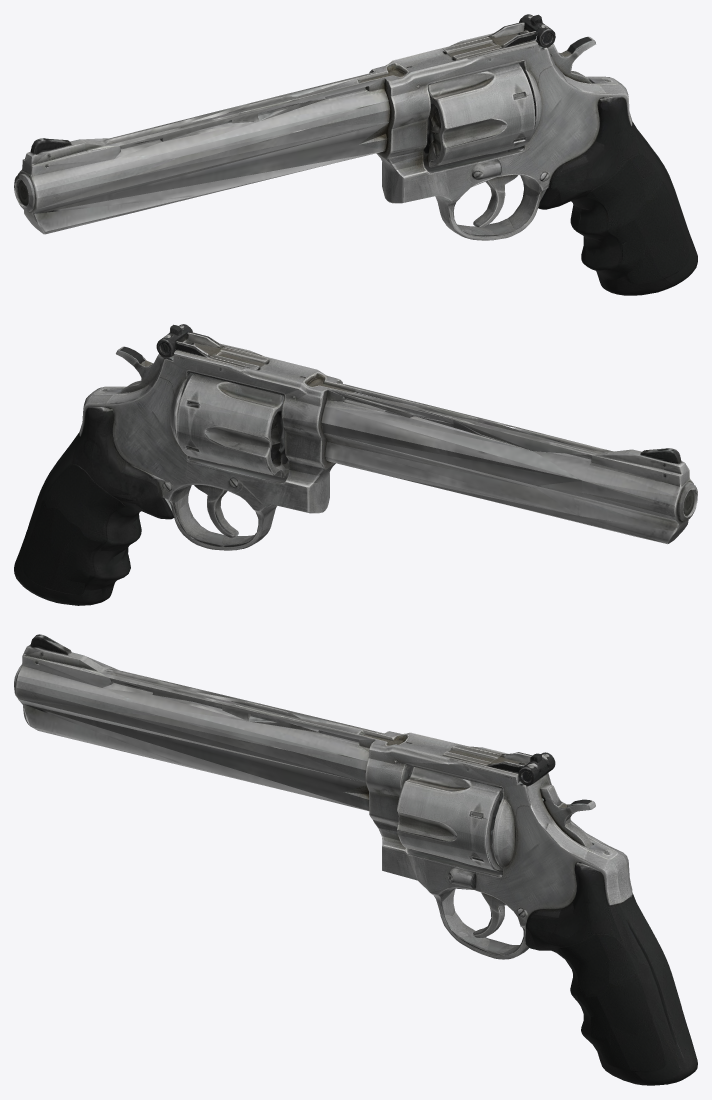
The model's file is bastion.glb.
3 renders of one model, top to bottom at view 1: azimuth 30°, elevation 25°; view 2: azimuth 150°, elevation 25°; view 3: azimuth 330°, elevation 25°, orthographic.
Visible parts, largest first — view 1: Mesh_0; view 2: Mesh_0; view 3: Mesh_0.
Part boxes in pixels (left/top/right/bottom): Mesh_0: left=14, top=14, right=697, bottom=295; Mesh_0: left=14, top=324, right=697, bottom=605; Mesh_0: left=14, top=634, right=697, bottom=1085.
Bounding box in the file's own units: 1.9 × 0.801 × 0.2441.
1 material, 1 textured.
